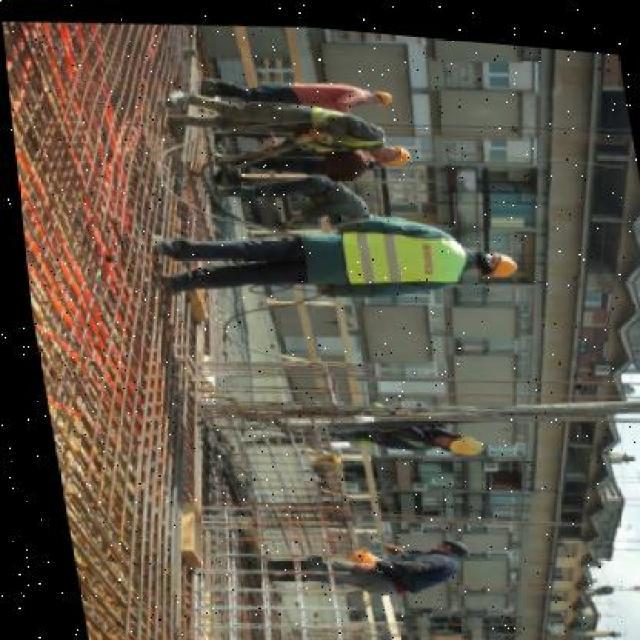helmet: (466, 237, 520, 277)
vest: (334, 220, 458, 286)
